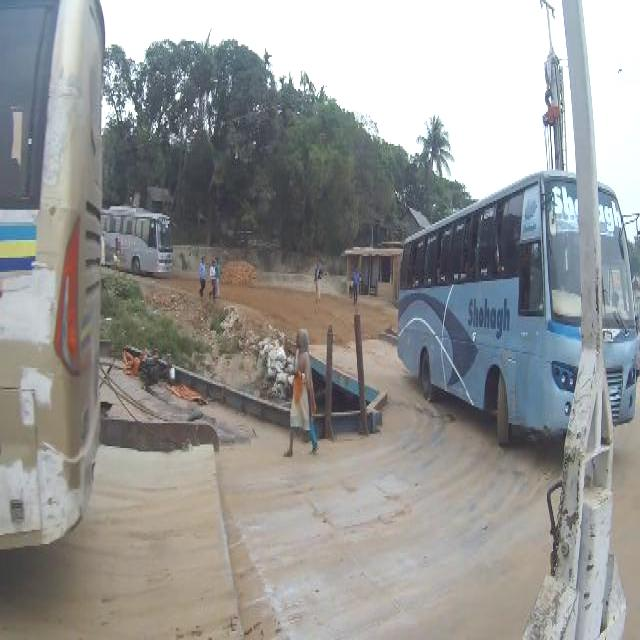BUS: (395, 170, 631, 440)
